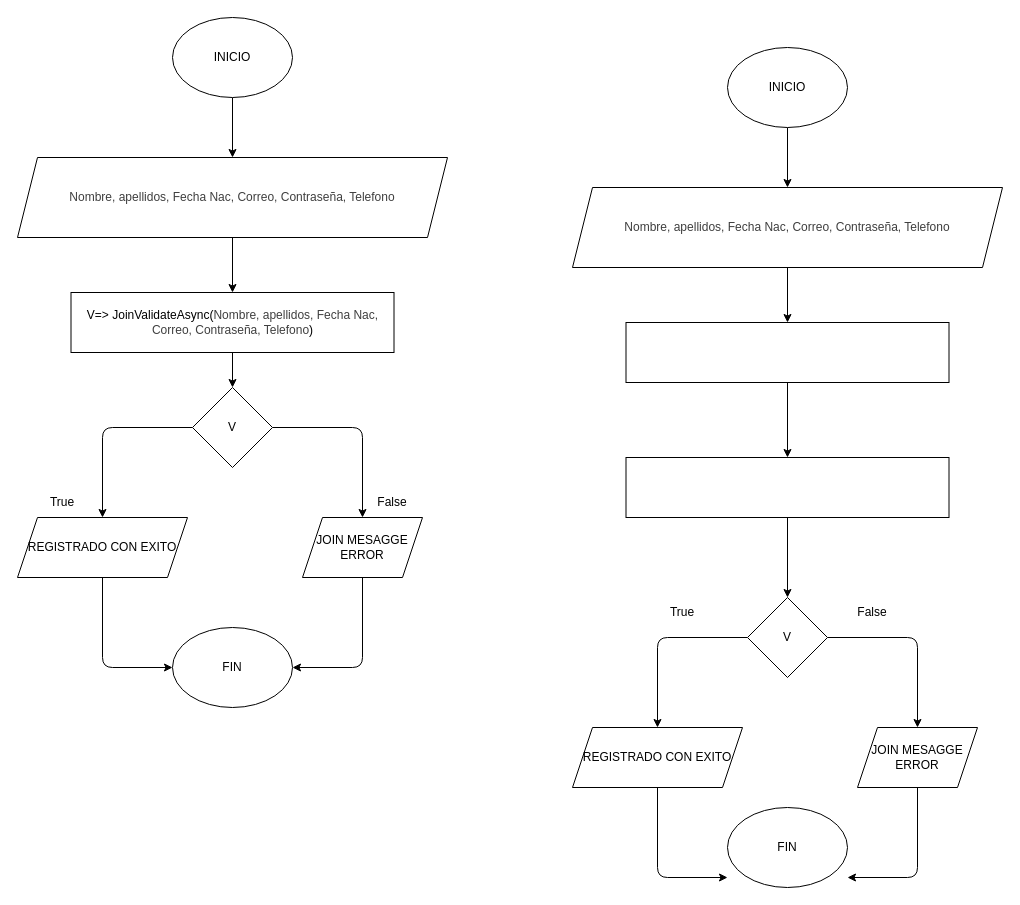
The diagram is 1020 pixels wide and 905 high, and some of its shapes have lost their labels. Here are the shapes that lost their labels. From the top down, the box of each, then its label:
(625, 322, 949, 382): Conexion = Await Create conection()
(625, 456, 949, 518): Query= Await Conection query ()
